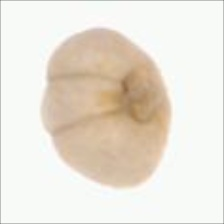L5: (38, 74, 127, 136), (118, 64, 167, 127)
L6: (37, 27, 179, 191)
